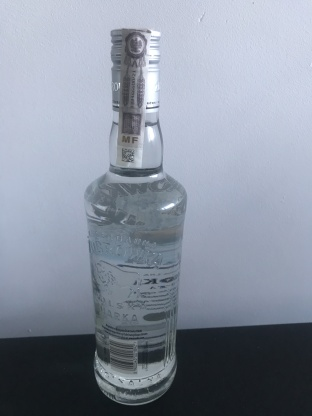nakretka: (108, 24, 163, 116)
